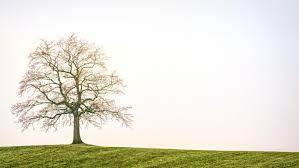tree: (13, 34, 137, 146)
